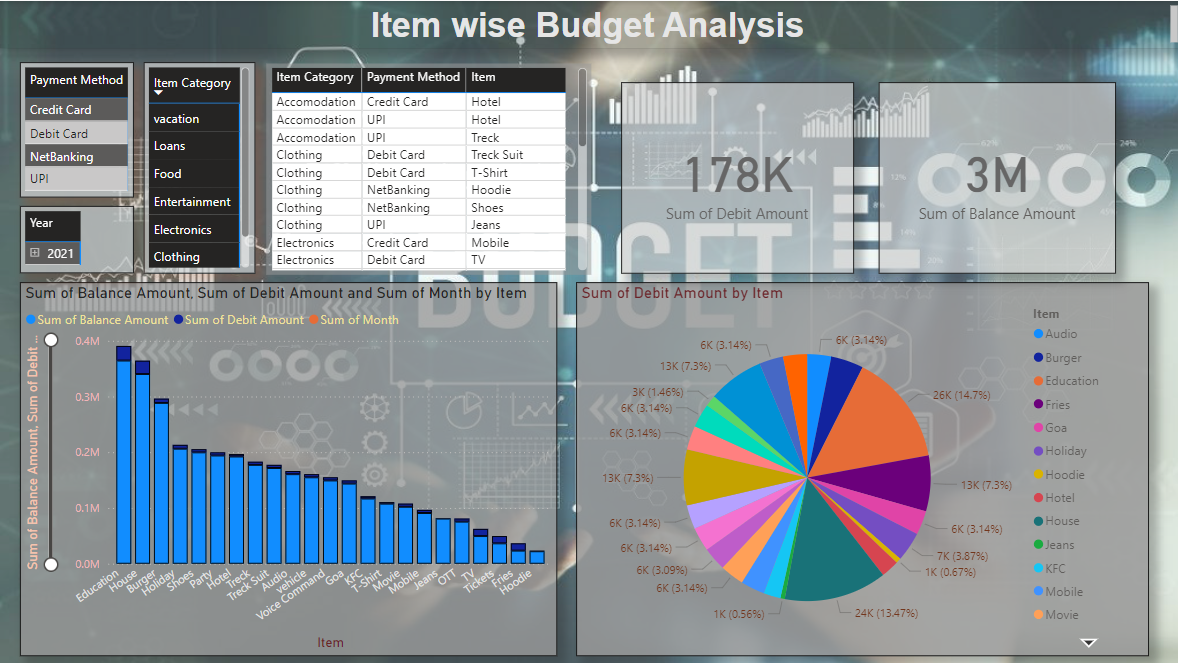

What the dashboard file says about the page in this screenshot:
{"tool":"powerbi","page":{"name":"Page 1","canvas":[1280,720],"ordinal":0},"visuals":[{"type":"textbox","box":[0,0,1280.3,51.4],"z":0},{"type":"pivotTable","fields":{"Rows":["Table3.Payment Method"]},"box":[21.7,66.3,123.2,146.2],"z":1000},{"type":"pivotTable","fields":{"Rows":["Table3.Item Category"]},"box":[155.6,66.3,120.4,228.7],"z":2000},{"type":"columnChart","fields":{"Y":["Sum(Table3.Balance Amount)","Sum(Table3.Debit Amount)","Sum(Table3.Month)"],"Category":["Table3.Item"]},"box":[21.7,304.5,581.9,404.7],"z":3000},{"type":"pieChart","fields":{"Y":["Sum(Table3.Debit Amount)"],"Series":["Table3.Item"]},"box":[623.9,304.5,619.8,404.7],"z":4000},{"type":"card","fields":{"Values":["Sum(Table3.Balance Amount)"]},"box":[951.4,88,257.1,207.1],"z":5000},{"type":"card","fields":{"Values":["Sum(Table3.Debit Amount)"]},"box":[672.6,88,251.7,207.1],"z":6000},{"type":"pivotTable","fields":{"Rows":["Table3.Date.Variation.Date Hierarchy.Year","Table3.Date.Variation.Date Hierarchy.Quarter","Table3.Date.Variation.Date Hierarchy.Month","Table3.Date.Variation.Date Hierarchy.Day"]},"box":[21.7,222,123.2,73.1],"z":7000},{"type":"tableEx","fields":{"Values":["Table3.Item Category","Table3.Payment Method","Table3.Item"]},"box":[288.3,67.7,351.9,228.7],"z":7001}]}

Visuals, with their boxes in screenshot pixels (x1, y1, x2, y2), scaled from the page's 1280x720 canvas onto the 1178x663 screenshot:
textbox: (left=0, top=0, right=1177, bottom=47)
pivotTable - Table3.Payment Method: (left=20, top=61, right=133, bottom=196)
pivotTable - Table3.Item Category: (left=143, top=61, right=254, bottom=272)
columnChart - Sum(Table3.Balance Amount) x Sum(Table3.Debit Amount): (left=20, top=280, right=556, bottom=653)
pieChart - Sum(Table3.Debit Amount) x Table3.Item: (left=574, top=280, right=1145, bottom=653)
card - Sum(Table3.Balance Amount): (left=876, top=81, right=1112, bottom=272)
card - Sum(Table3.Debit Amount): (left=619, top=81, right=851, bottom=272)
pivotTable - Table3.Date.Variation.Date Hierarchy.Year x Table3.Date.Variation.Date Hierarchy.Quarter: (left=20, top=204, right=133, bottom=272)
tableEx - Table3.Item Category x Table3.Payment Method: (left=265, top=62, right=589, bottom=273)
